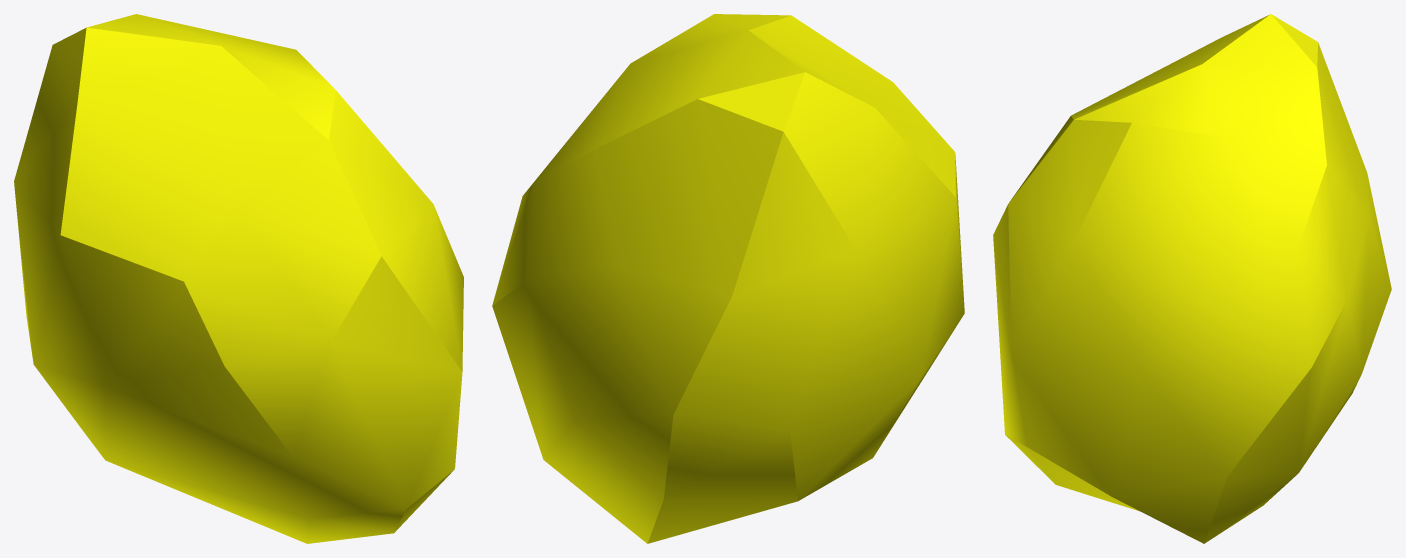
The model's file is kaykit-rock-3-b-color-1.glb.
The picture shows the model from 3 angles, left to right: view 1: azimuth 30°, elevation 25°; view 2: azimuth 150°, elevation 25°; view 3: azimuth 270°, elevation 25°; orthographic projection. The views are drawn at different scales.
Parts seen in each view (by area): view 1: Rock_3_B_Color1; view 2: Rock_3_B_Color1; view 3: Rock_3_B_Color1.
Boxes of the visible parts, x1,y1,x2,y2 form: Rock_3_B_Color1: (14, 14, 463, 543); Rock_3_B_Color1: (492, 14, 964, 543); Rock_3_B_Color1: (993, 14, 1391, 543).
Bounding box in the file's own units: 0.8192 × 1.03 × 0.8468.
